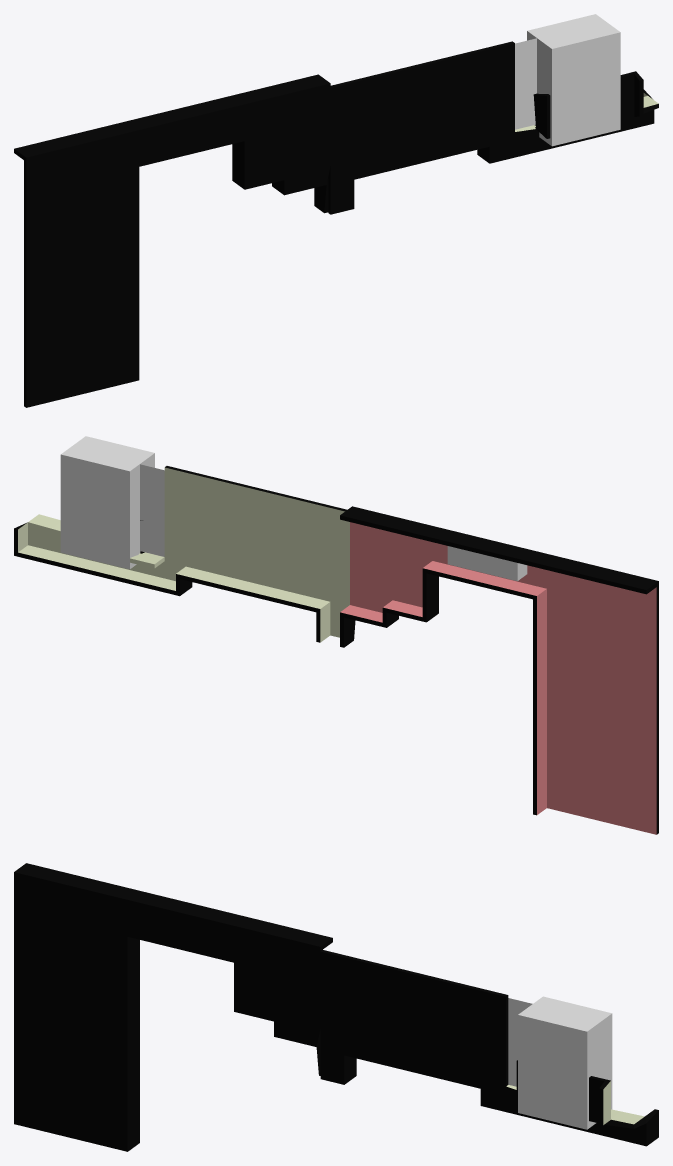
Rendered from salle8.fbx.
The picture shows the model from 3 angles, top to bottom: view 1: azimuth 30°, elevation 25°; view 2: azimuth 150°, elevation 25°; view 3: azimuth 330°, elevation 25°; orthographic projection.
Parts seen in each view (by area): view 1: Cube.020, Cube.023, grille; view 2: Cube.020, Cube.023, grille, Cube.024; view 3: Cube.020, Cube.023, grille.
Part boxes in pixels (left/top/right/bottom): Cube.020: left=14, top=41, right=658, bottom=407; Cube.023: left=527, top=14, right=620, bottom=146; grille: left=515, top=38, right=536, bottom=129; Cube.020: left=14, top=466, right=658, bottom=834; Cube.023: left=60, top=436, right=154, bottom=569; grille: left=140, top=464, right=164, bottom=556; Cube.024: left=447, top=546, right=527, bottom=581; Cube.020: left=14, top=863, right=658, bottom=1151; Cube.023: left=518, top=996, right=612, bottom=1129; grille: left=508, top=998, right=532, bottom=1086.
Size of the model in its own units: 22824 by 8688 by 1781.
